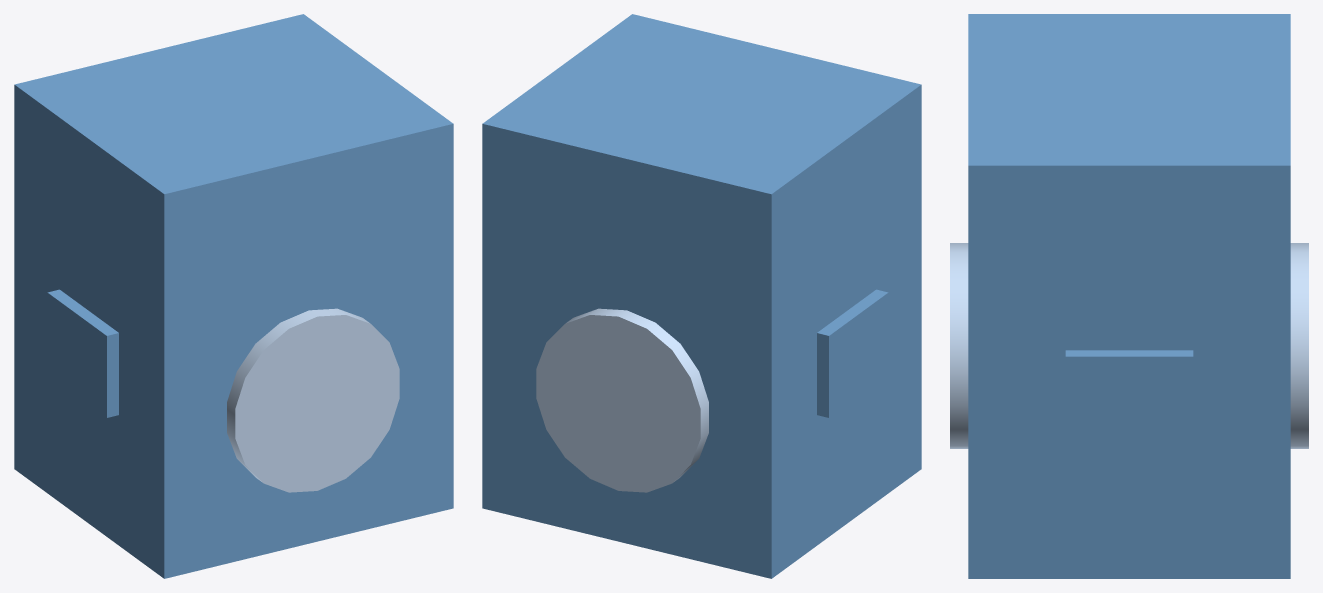
Rendered from flyer-shape-chamber-carrier-v1.glb.
3 renders of one model, left to right at view 1: azimuth 30°, elevation 25°; view 2: azimuth 150°, elevation 25°; view 3: azimuth 270°, elevation 25°, orthographic. The views are drawn at different scales.
Visible parts, largest first — view 1: Chamber Carrier; view 2: Chamber Carrier; view 3: Chamber Carrier.
Boxes of the visible parts, box(x1,y1,x2,y2) form: Chamber Carrier: box(14, 14, 453, 578); Chamber Carrier: box(482, 14, 921, 578); Chamber Carrier: box(950, 14, 1308, 578).
Bounding box in the file's own units: 2.18 × 2.55 × 2.01.
